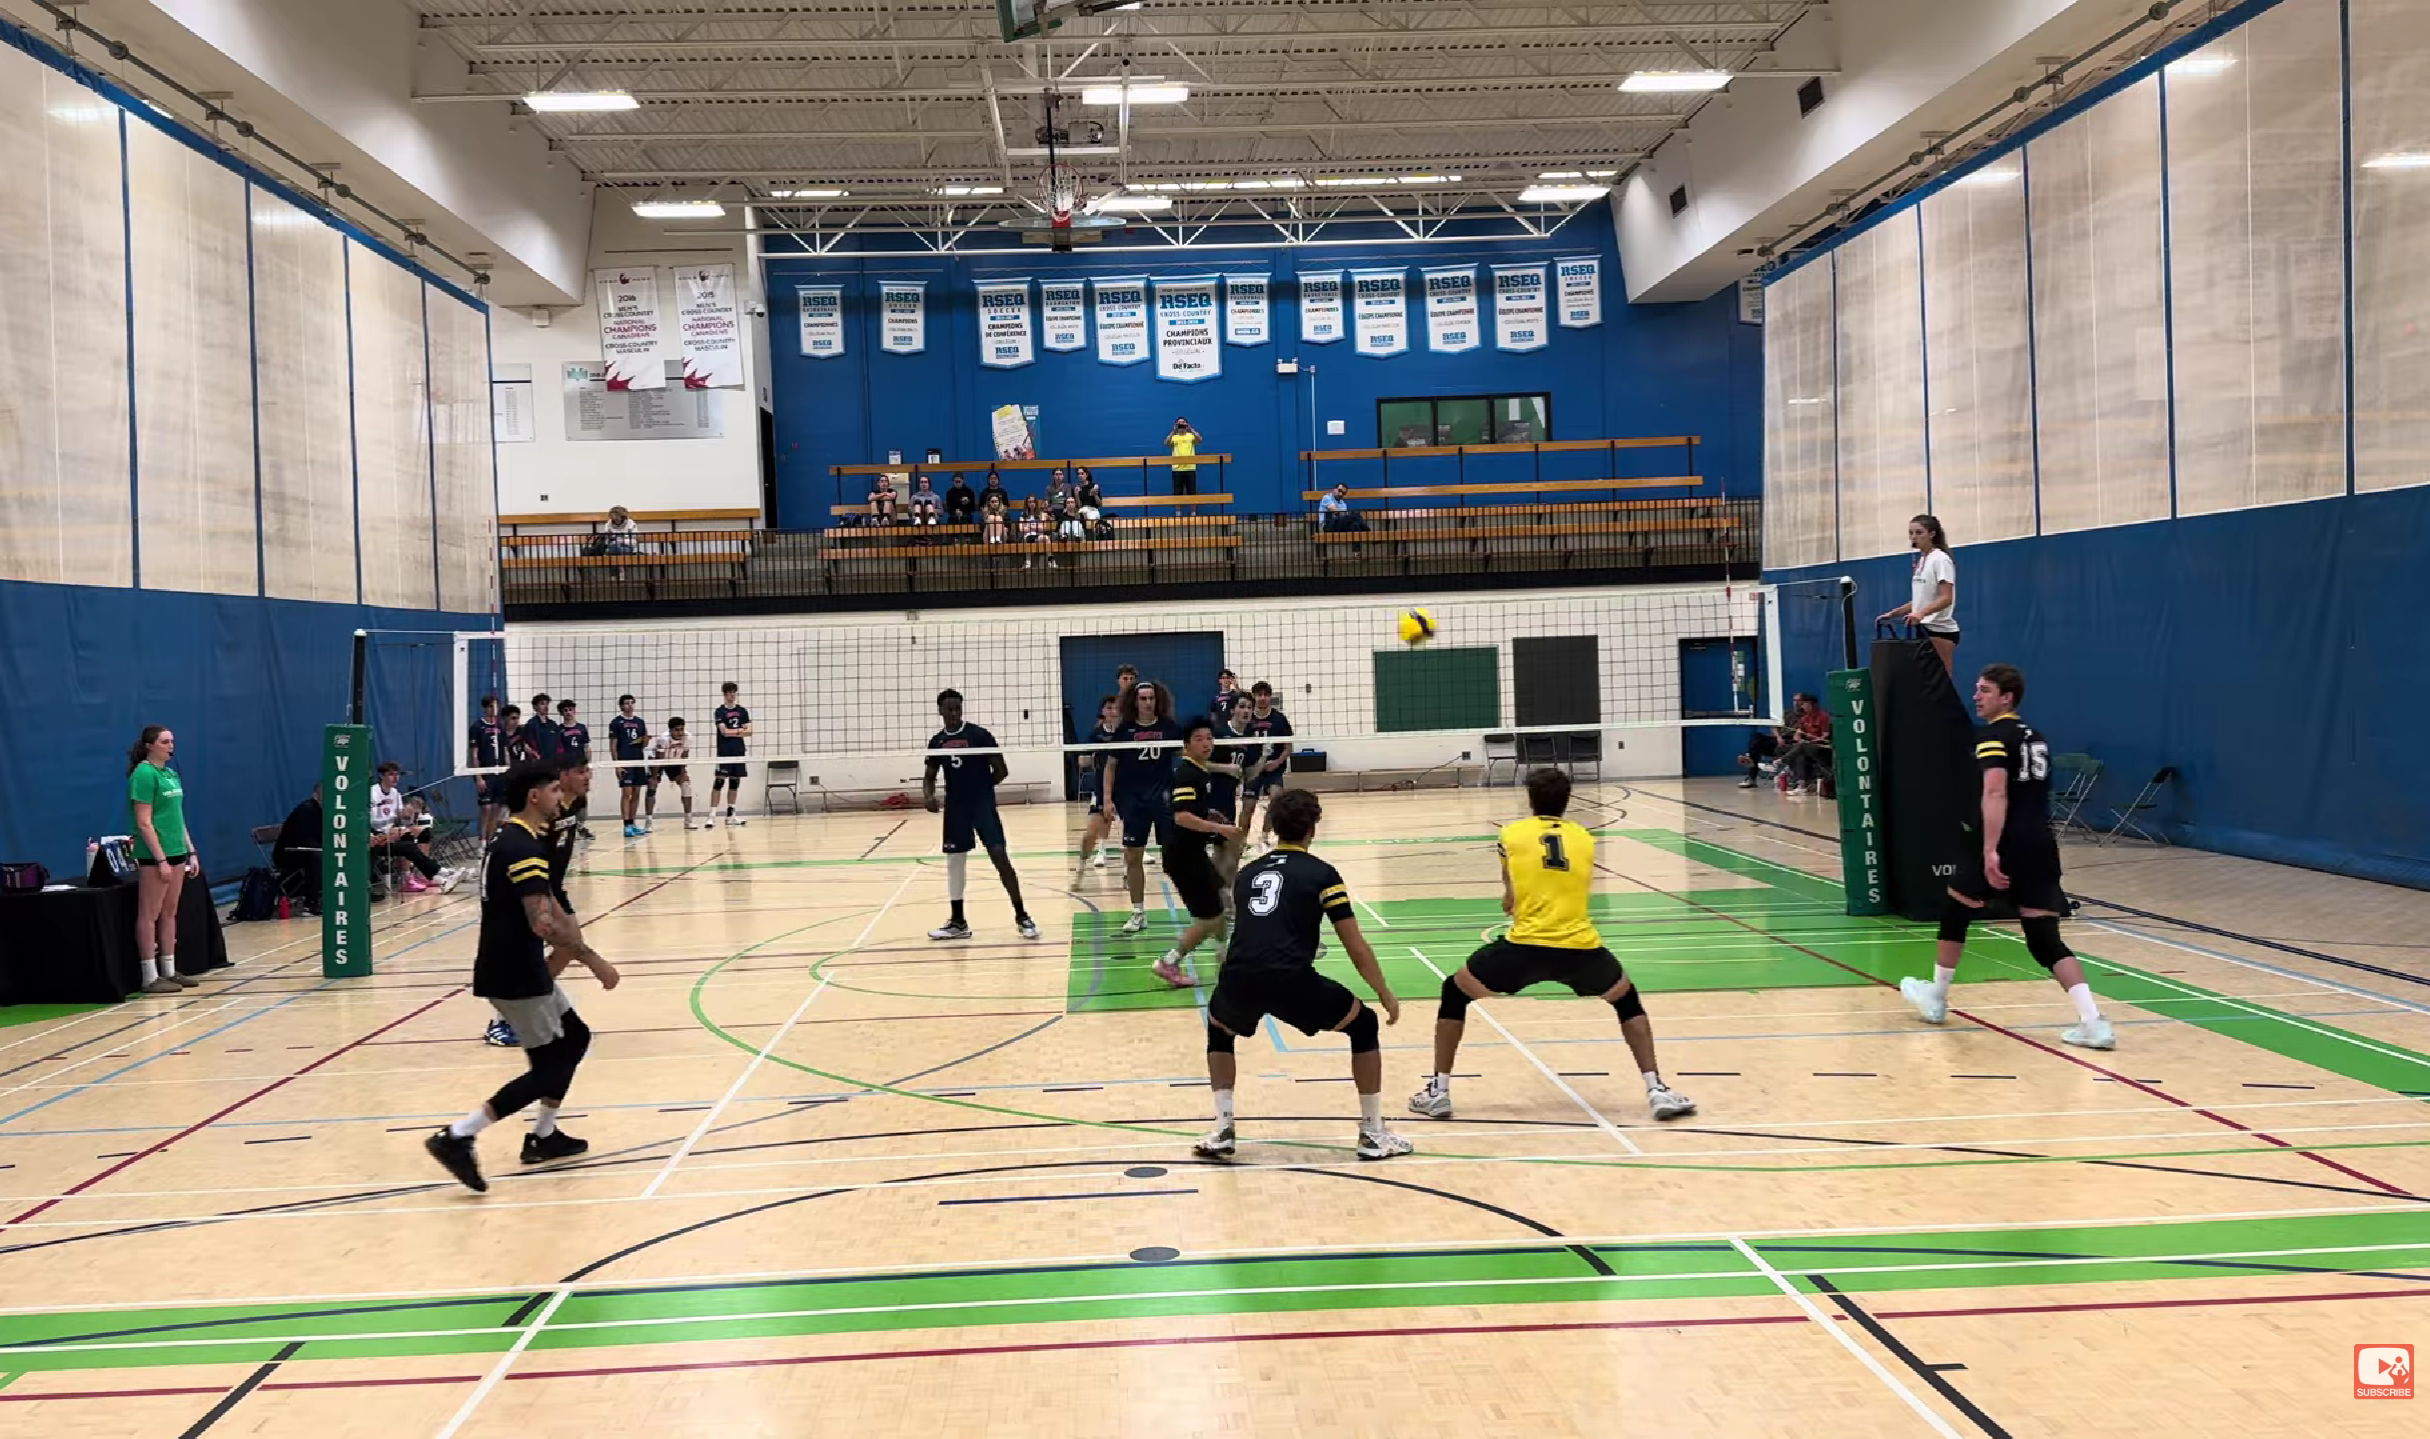Ball: (1394, 605, 1437, 648)
